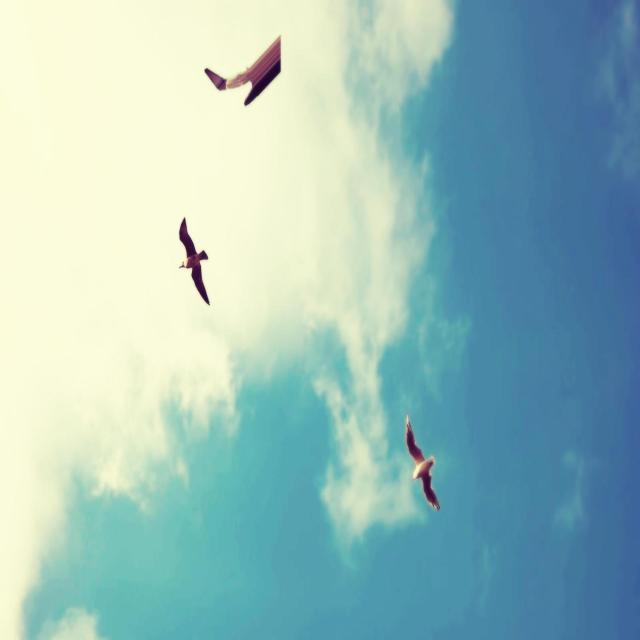airplane: (204, 34, 281, 106)
